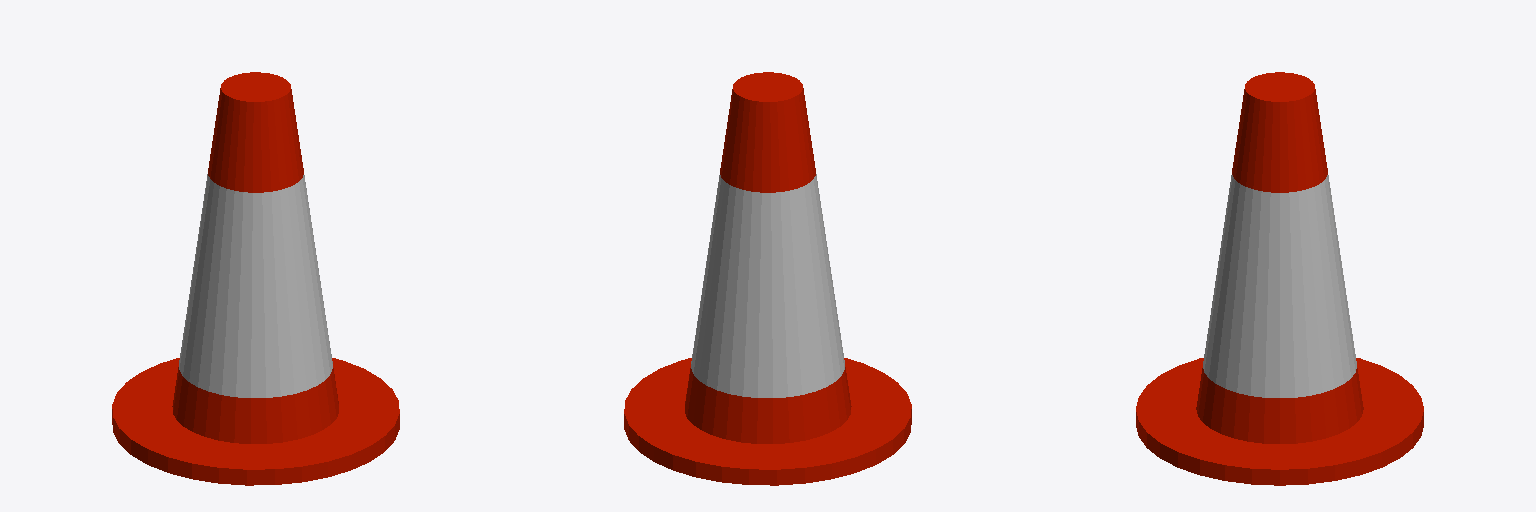
3 views of the same model, side by side, from view 1: azimuth 30°, elevation 25°; view 2: azimuth 150°, elevation 25°; view 3: azimuth 270°, elevation 25° (orthographic).
Visible parts, largest first — view 1: Cylinder.007_Cylinder.003; view 2: Cylinder.007_Cylinder.003; view 3: Cylinder.007_Cylinder.003.
Boxes of the visible parts, x1=… form: Cylinder.007_Cylinder.003: x1=112, y1=72, x2=399, y2=485; Cylinder.007_Cylinder.003: x1=624, y1=72, x2=911, y2=485; Cylinder.007_Cylinder.003: x1=1136, y1=72, x2=1423, y2=485.
Bounding box in the file's own units: 2.21 × 2.85 × 2.21.